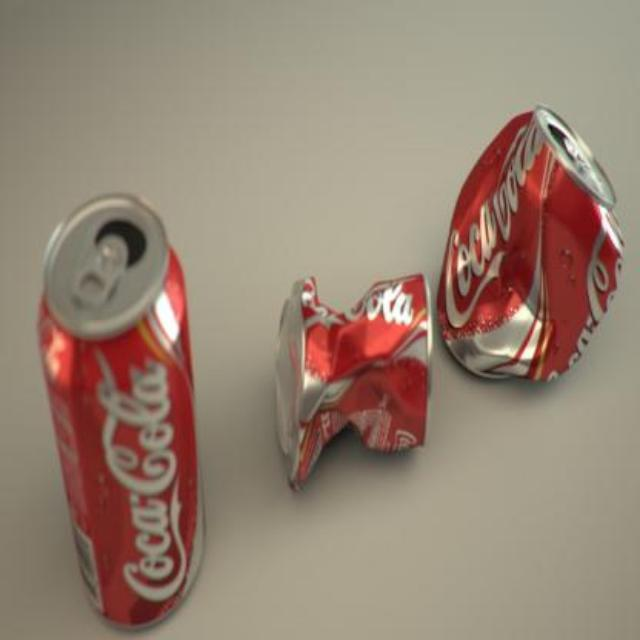metal: (37, 194, 198, 623), (437, 105, 620, 377), (275, 274, 432, 486)
